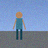person: (13, 12, 26, 40)
